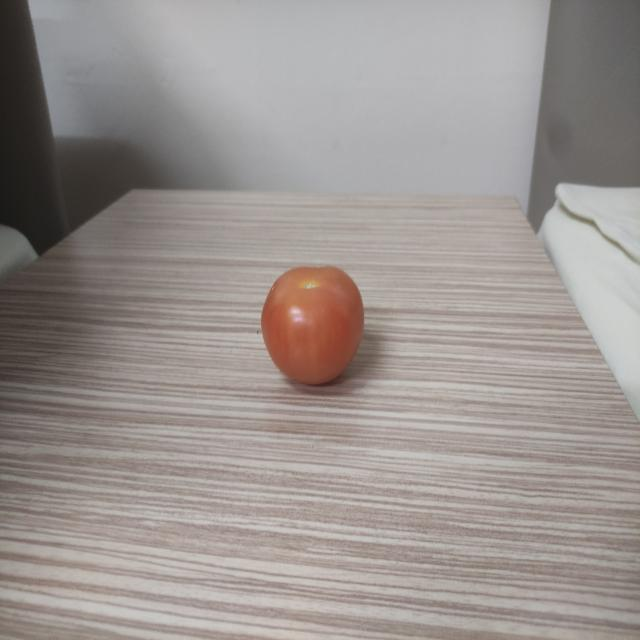sari: (248, 251, 372, 407)
